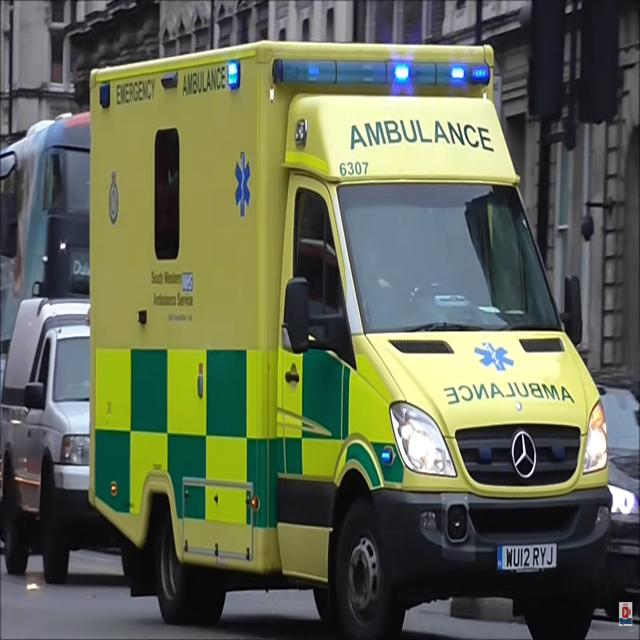emergency-vehicles: (69, 30, 625, 640)
